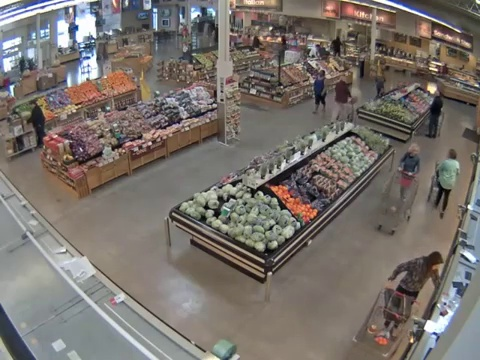face: (409, 146, 418, 156), (318, 71, 325, 77)
